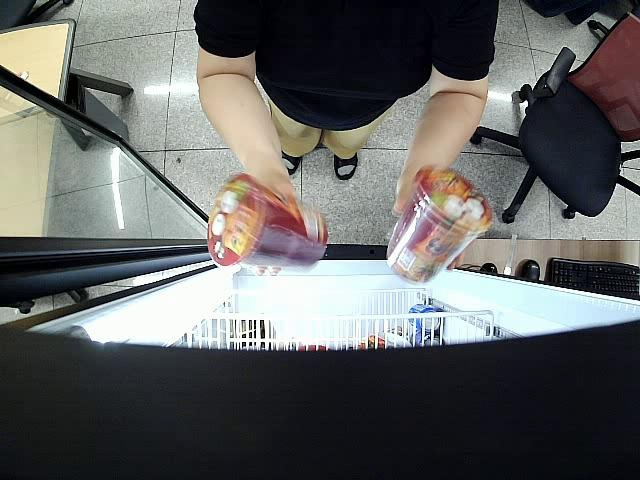00_hand: (240, 169, 295, 275), (393, 173, 428, 219)
06_nuguri_S: (205, 176, 329, 273), (389, 165, 489, 283)
